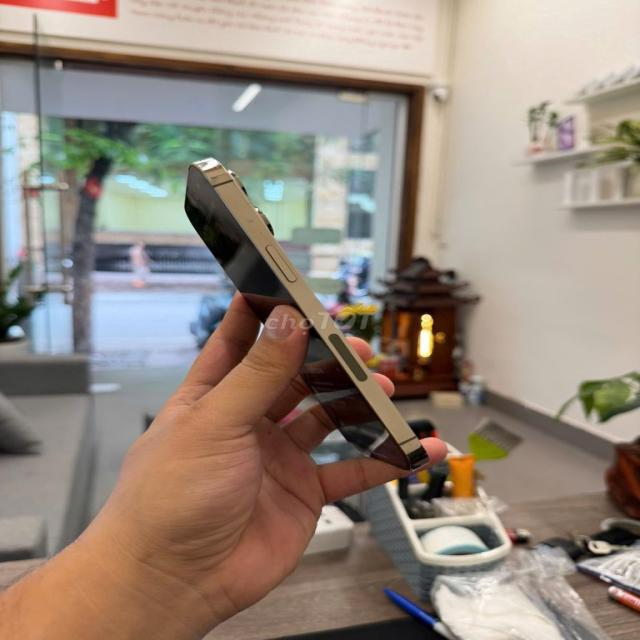gen_14: (175, 157, 439, 480)
